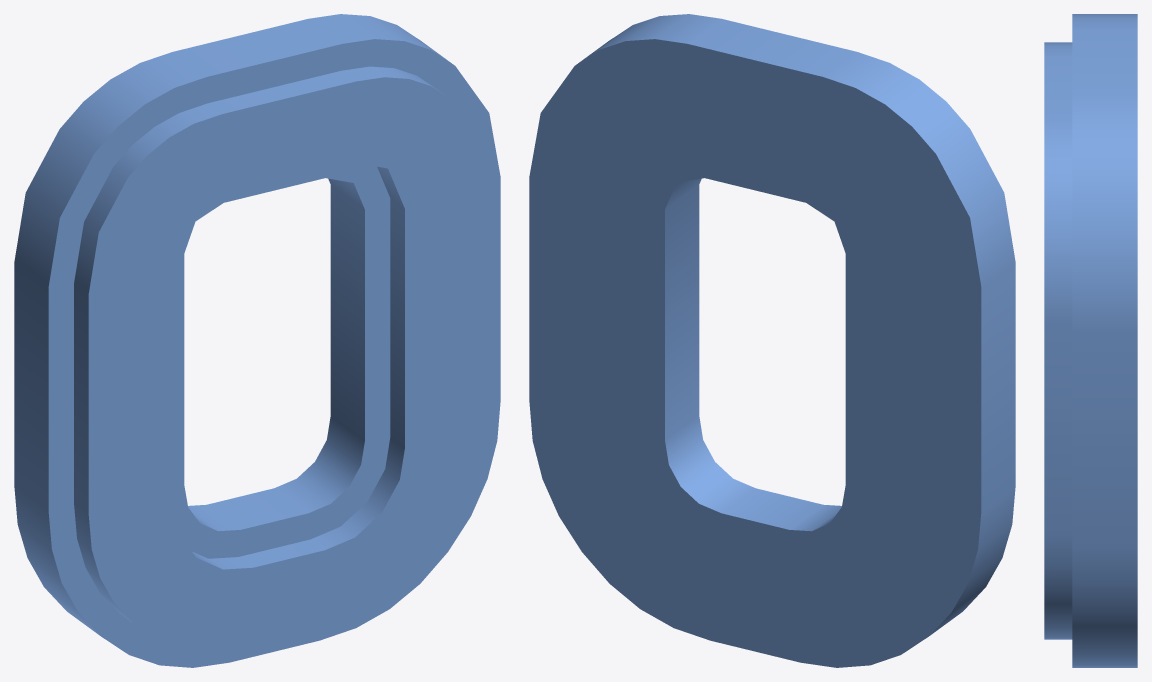
The model's file is uploads_files_2164730_O2.FBX.
3 views of the same model, side by side, from view 1: azimuth 30°, elevation 25°; view 2: azimuth 150°, elevation 25°; view 3: azimuth 270°, elevation 25° (orthographic). The views are drawn at different scales.
Parts seen in each view (by area): view 1: o; view 2: o; view 3: o.
Boxes of the visible parts, left/top/right/bottom form: o: left=14, top=14, right=500, bottom=667; o: left=529, top=14, right=1015, bottom=667; o: left=1044, top=14, right=1137, bottom=667.
Size of the model in its own units: 2.67 by 3.33 by 0.5.
